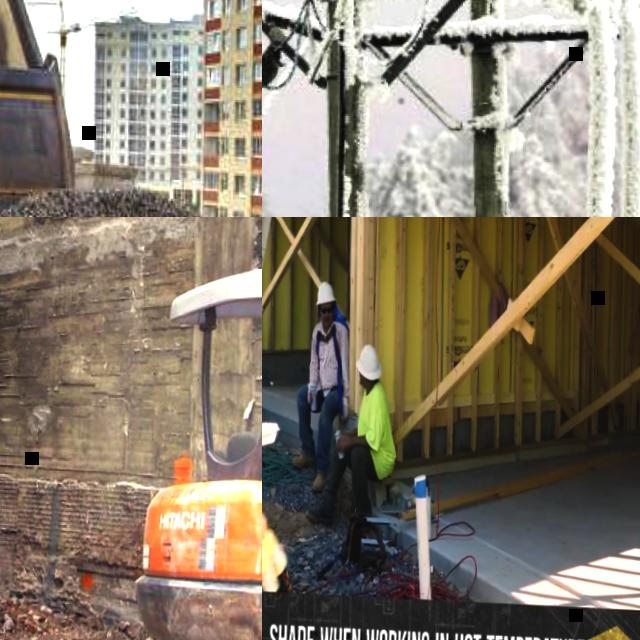Hardhat: (356, 338, 381, 381), (314, 280, 335, 307)
NO-Mask: (320, 314, 333, 328), (357, 375, 365, 384)
NO-Safety Vest: (355, 385, 388, 457), (309, 324, 343, 391)
Person: (302, 338, 400, 566), (289, 278, 351, 492)
vehicle: (127, 254, 262, 640), (0, 0, 88, 217)
